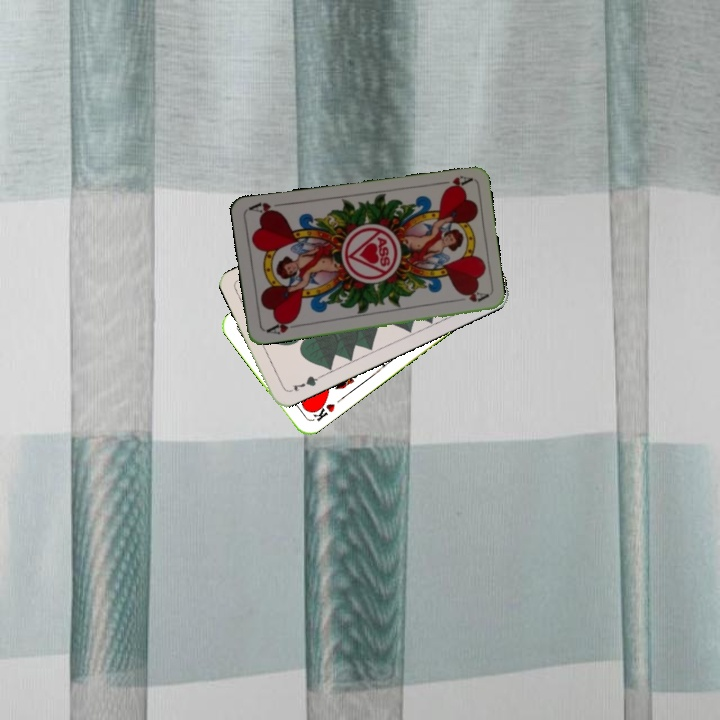G7: (285, 372, 323, 395)
HA: (432, 171, 473, 193), (262, 315, 302, 337)
HK: (306, 396, 338, 424)
